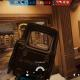Character: (38, 39, 42, 44)
Friend_label: (61, 76, 70, 80), (73, 73, 79, 77), (68, 38, 73, 40)
Head: (38, 38, 40, 40)
